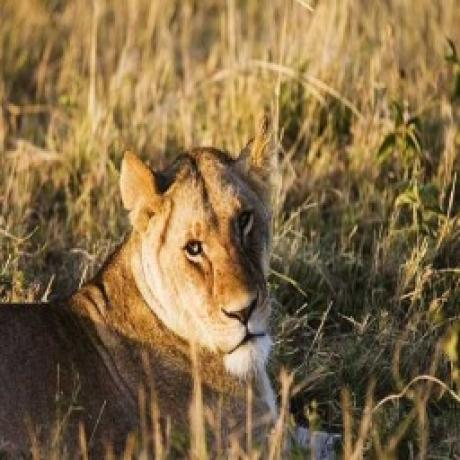Lion: (0, 134, 301, 460)
